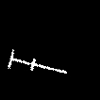double_crochet: (8, 50, 66, 72)
